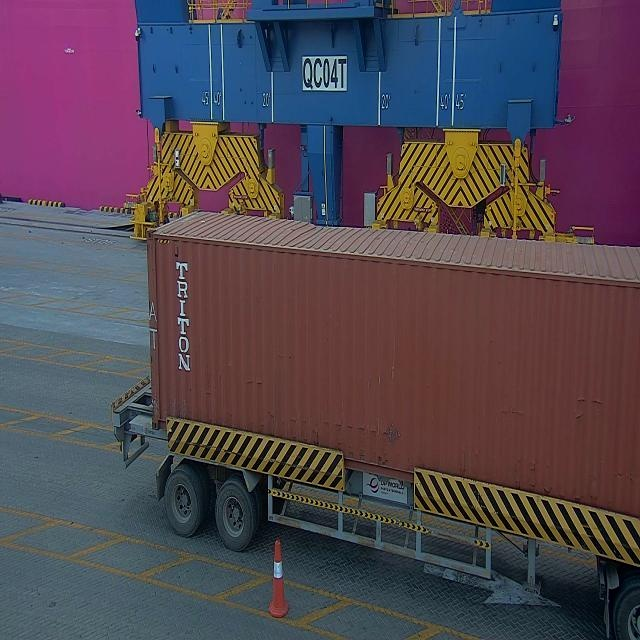Dent: (327, 412, 399, 449)
